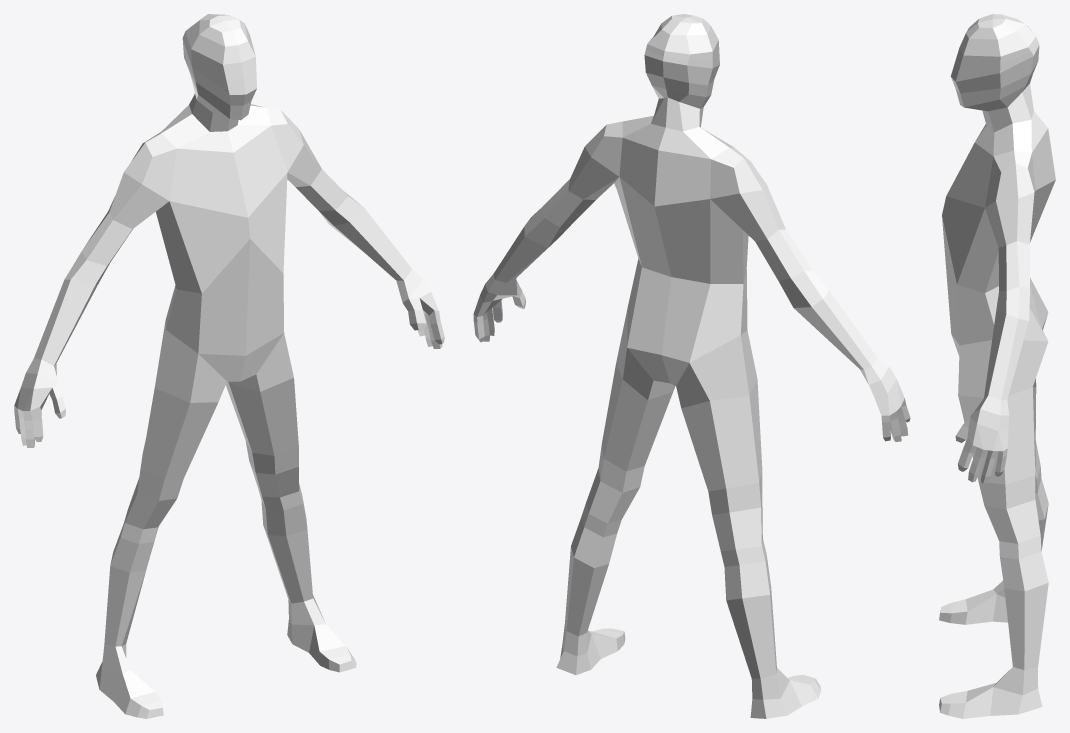
The model's file is human.obj.
3 renders of one model, left to right at view 1: azimuth 30°, elevation 25°; view 2: azimuth 150°, elevation 25°; view 3: azimuth 270°, elevation 25°, orthographic. The views are drawn at different scales.
Parts seen in each view (by area): view 1: Cube; view 2: Cube; view 3: Cube.
Part boxes in pixels (bbox=[...]): Cube: bbox=[14, 14, 444, 718]; Cube: bbox=[473, 14, 910, 718]; Cube: bbox=[939, 14, 1055, 718].
Size of the model in its own units: 4.96 by 7.46 by 1.23.
Materials: 1 (1 with a texture image).
